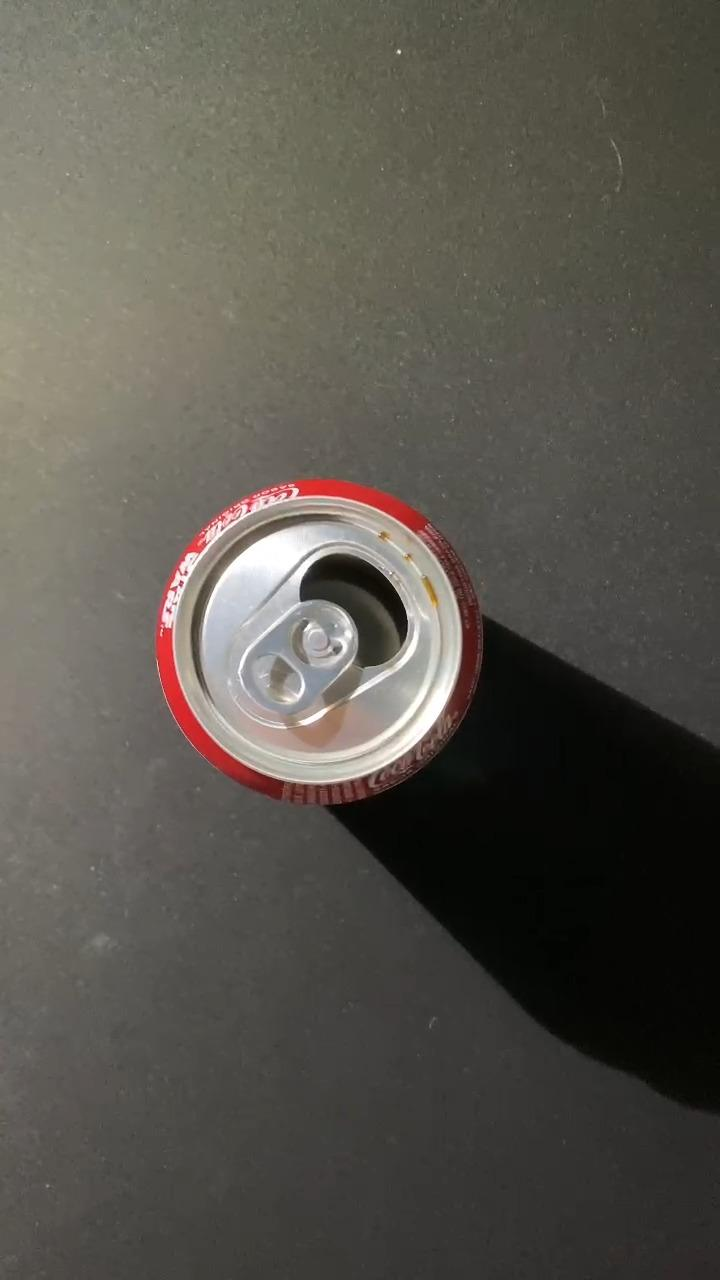coke: (154, 477, 485, 796)
